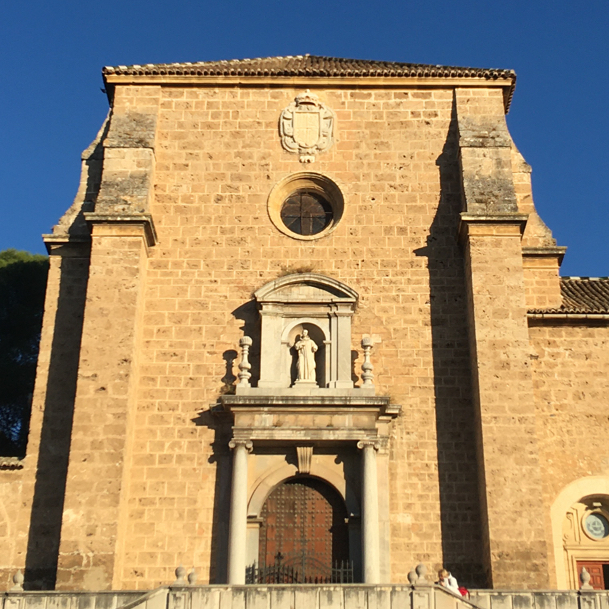arco-medio-punto: (247, 467, 350, 532)
fronton-curvo: (249, 271, 364, 312)
ojo-de-buey: (263, 174, 348, 239)
